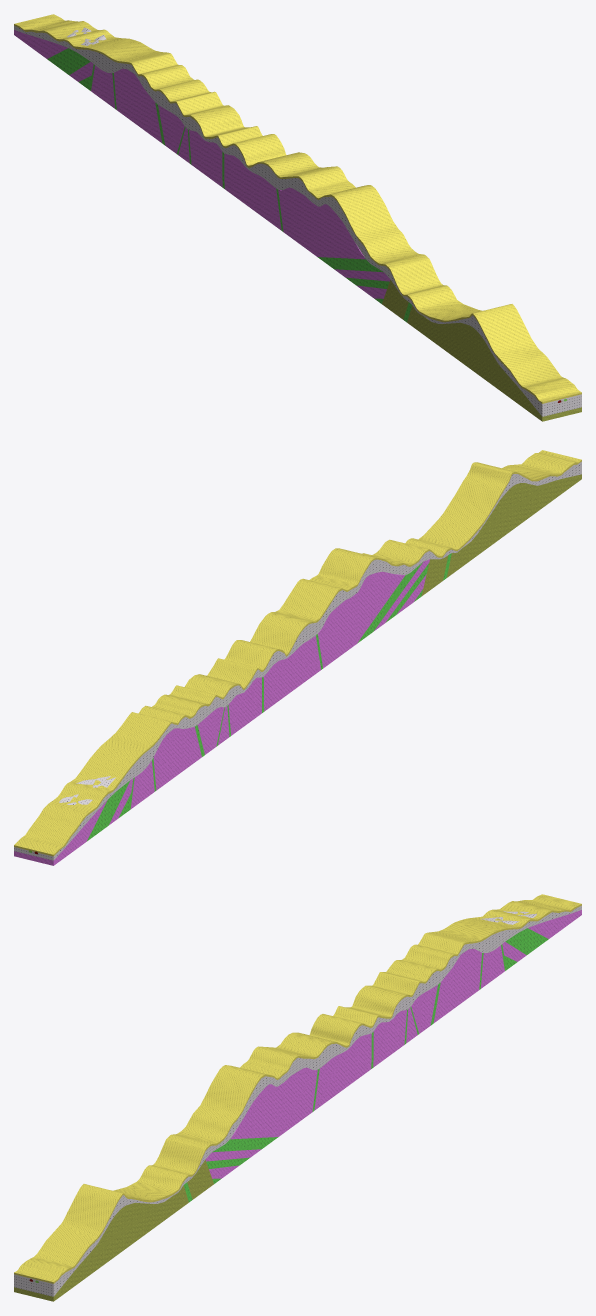
Rendered from MYS3.obj.
The picture shows the model from 3 angles, top to bottom: view 1: azimuth 30°, elevation 25°; view 2: azimuth 150°, elevation 25°; view 3: azimuth 330°, elevation 25°; orthographic projection.
Parts seen in each view (by area): view 1: 3, 1, 2, 0, fractures; view 2: 3, 1, 2, 0, fractures; view 3: 3, 1, 2, 0, fractures.
Part boxes in pixels (x1,y1,x2,y2): 3: (14,14,581,403); 1: (14,30,390,298); 2: (14,25,581,416); 0: (382,280,581,421); fractures: (47,48,411,322); 3: (14,450,581,856); 1: (14,559,429,865); 2: (14,461,581,860); 0: (421,474,581,596); fractures: (87,553,451,841); 3: (14,894,581,1283); 1: (205,910,581,1178); 2: (14,905,581,1296); 0: (14,1160,213,1301); fractures: (184,928,548,1202).
Bounding box in the file's own units: 160 × 282 × 3695.
7 materials, 5 textured.
